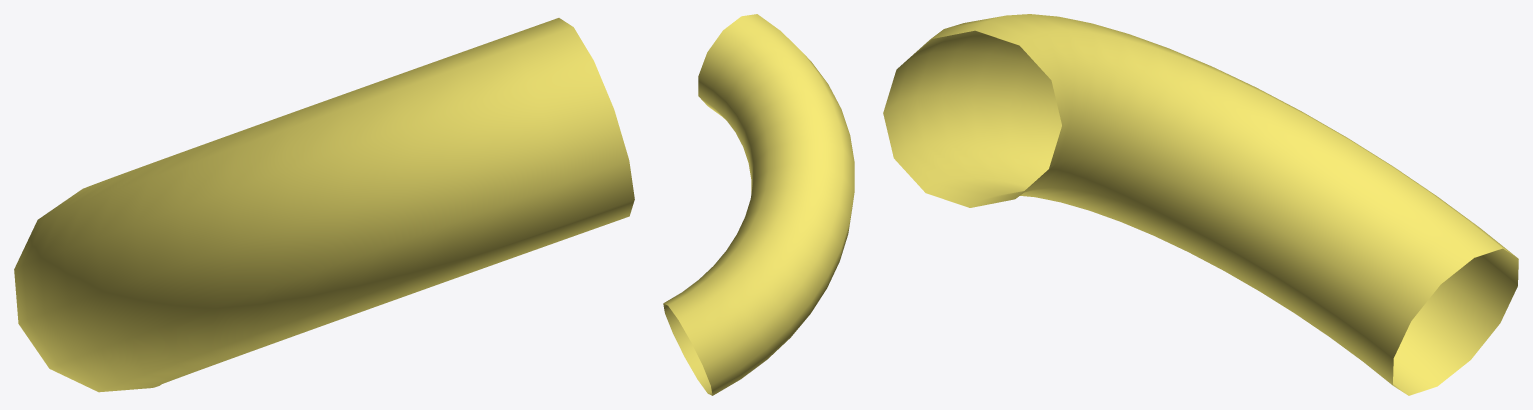
3 renders of one model, left to right at view 1: azimuth 30°, elevation 25°; view 2: azimuth 150°, elevation 25°; view 3: azimuth 270°, elevation 25°, orthographic. The views are drawn at different scales.
Visible parts, largest first — view 1: Torus.002; view 2: Torus.002; view 3: Torus.002.
Part boxes in pixels (x1,y1,x2,y2): Torus.002: [14, 18, 634, 392]; Torus.002: [663, 14, 854, 395]; Torus.002: [883, 14, 1518, 395].
Size of the model in its own units: 0.4596 by 0.5843 by 0.7646.
